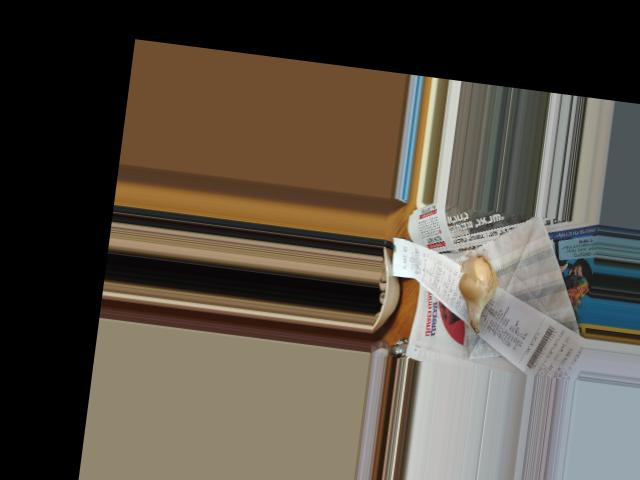onion: (455, 257, 502, 314)
